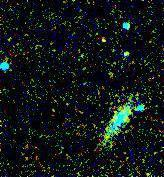star: (87, 28, 117, 58)
